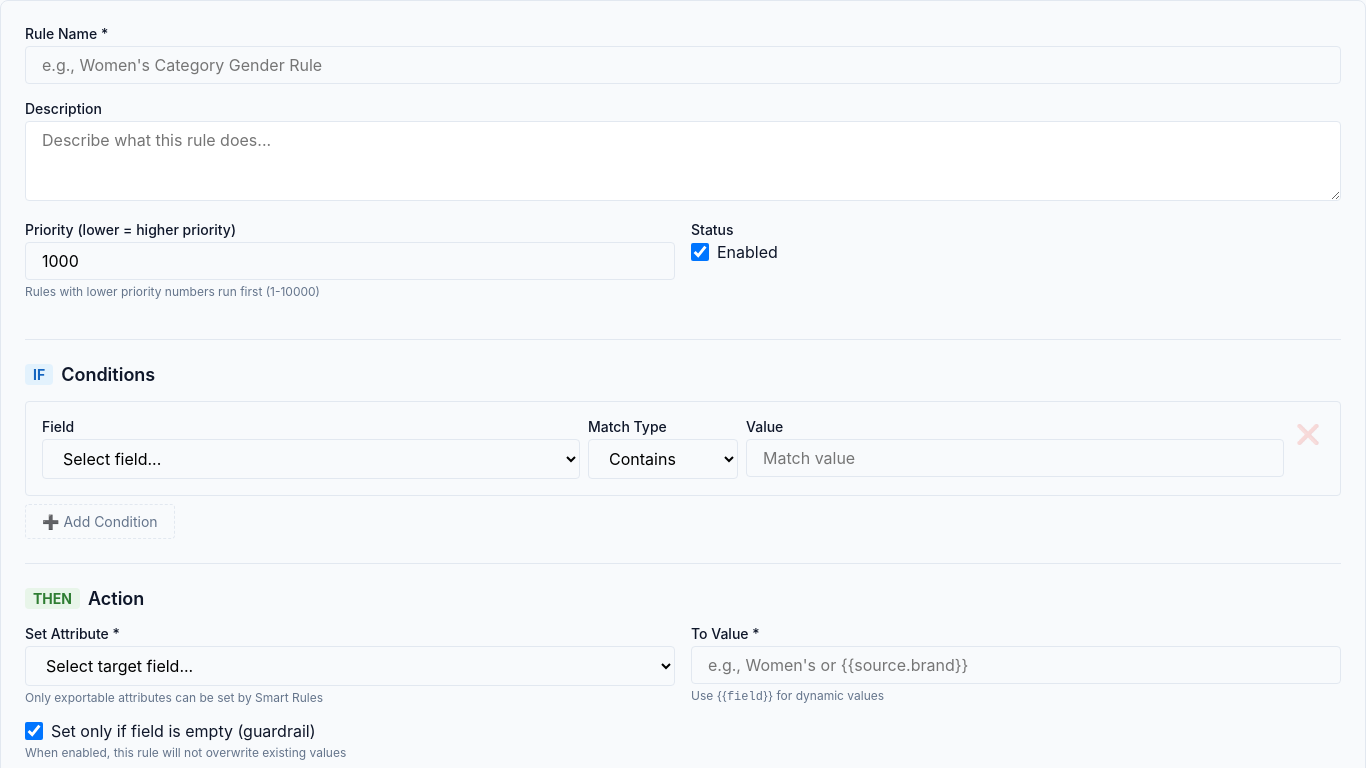
Test: RuleBuilder Component › Condition Management › should show logic toggle when multiple conditions exist
Note: Add second condition
Click the button "➕ Add Condition": point(100, 522) [25,504,175,539]
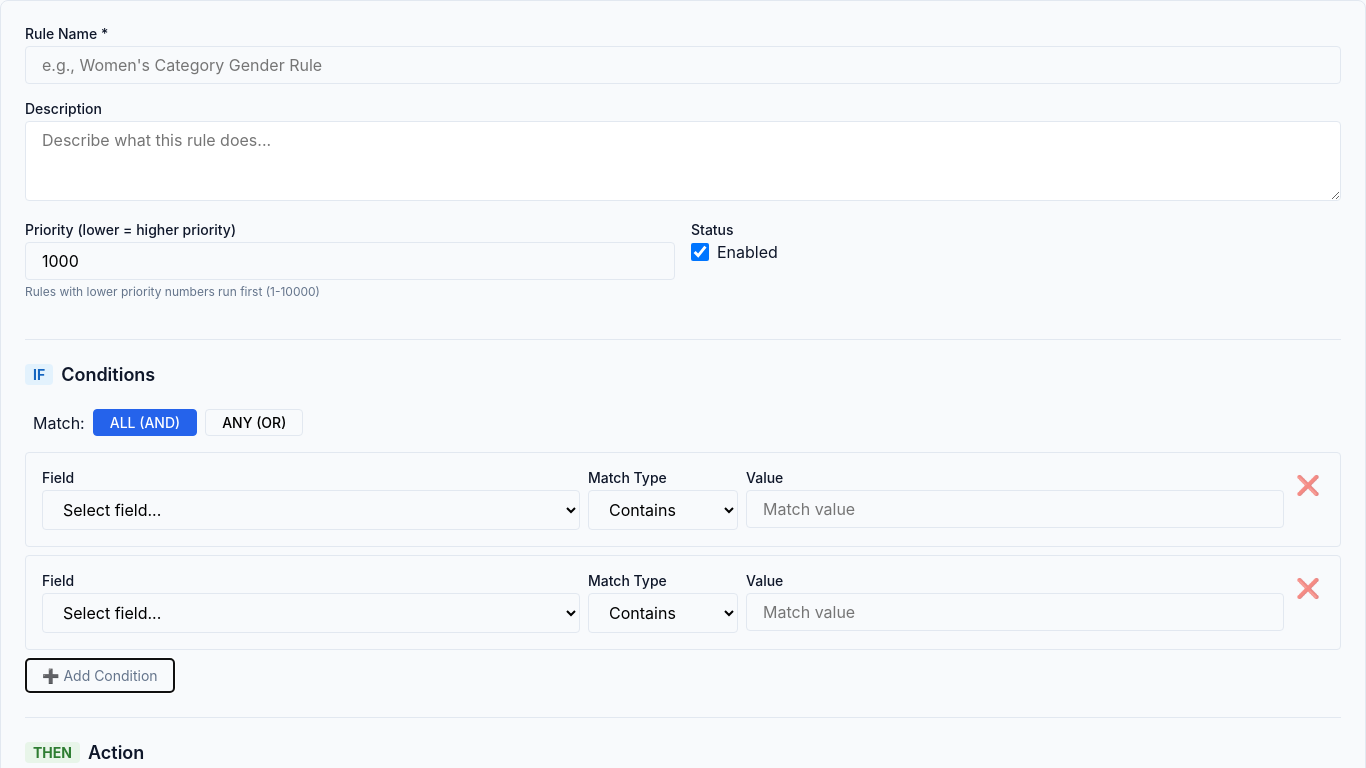
Result: the button "ALL (AND)" is shown at [93,409,197,436]
Result: the button "ANY (OR)" is shown at [205,409,303,436]
